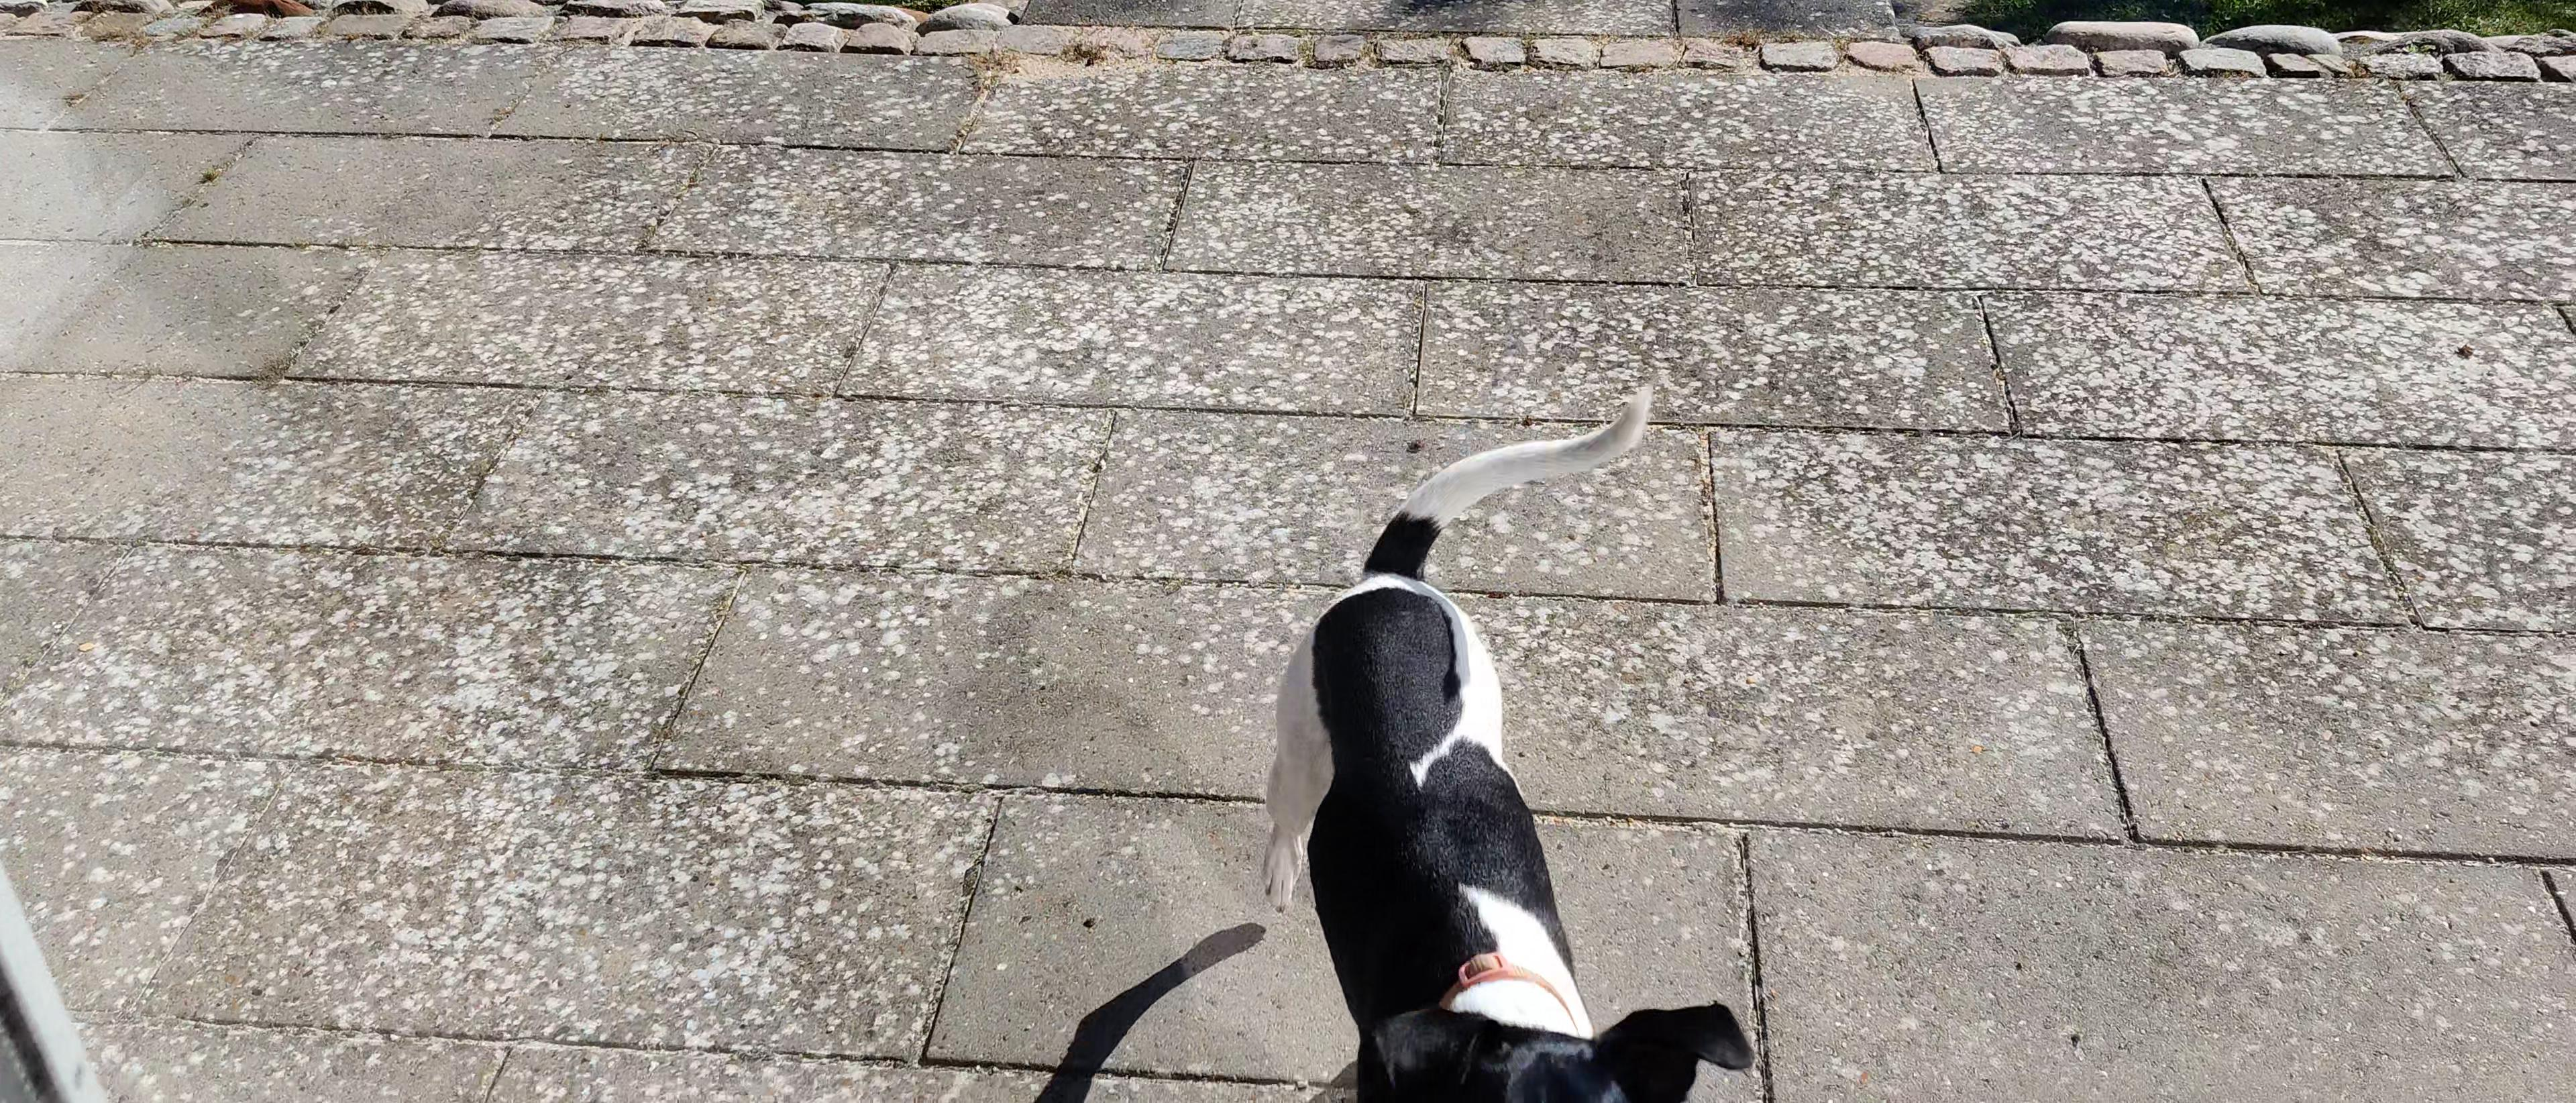Dog: (1184, 355, 1805, 1103)
